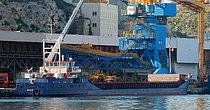Ship: (15, 36, 195, 98)
